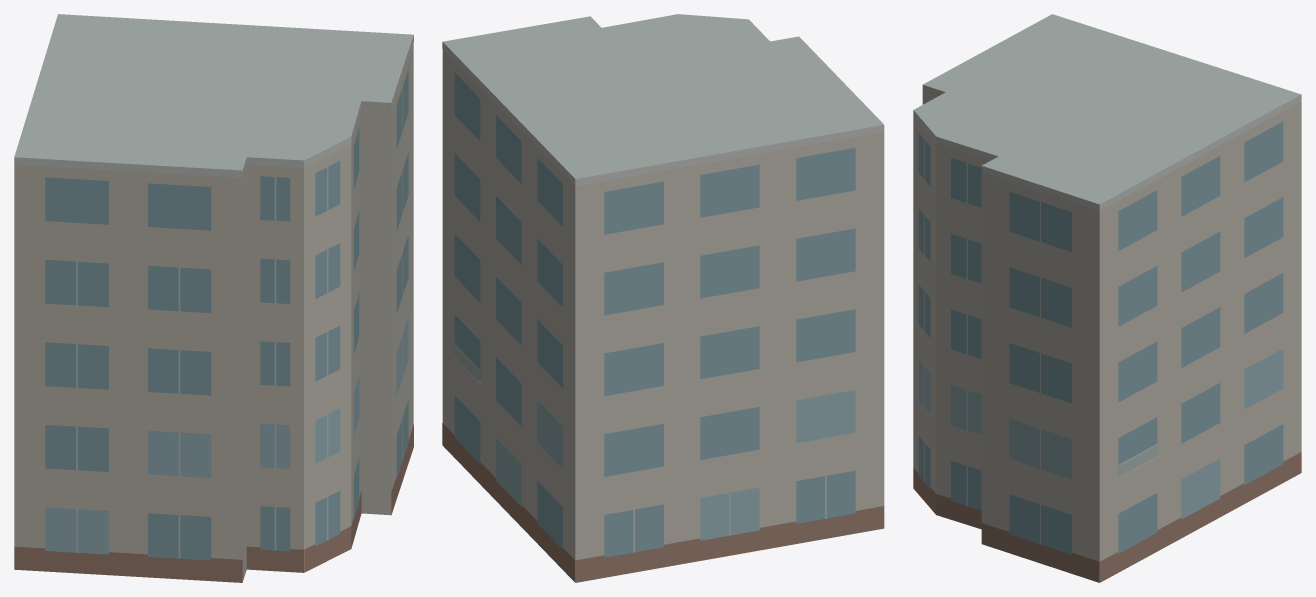
File: survey-upis-33012758.glb
3 views of the same model, side by side, from view 1: azimuth 30°, elevation 25°; view 2: azimuth 150°, elevation 25°; view 3: azimuth 270°, elevation 25° (orthographic). The views are drawn at different scales.
Visible parts, largest first — view 1: survey-upis-33012758.tmp; view 2: survey-upis-33012758.tmp; view 3: survey-upis-33012758.tmp.
Part boxes in pixels (x1,y1,x2,y2): survey-upis-33012758.tmp: (14,14,413,582); survey-upis-33012758.tmp: (442,14,884,582); survey-upis-33012758.tmp: (913,14,1301,582).
Size of the model in its own units: 14.64 by 13.55 by 12.61.
